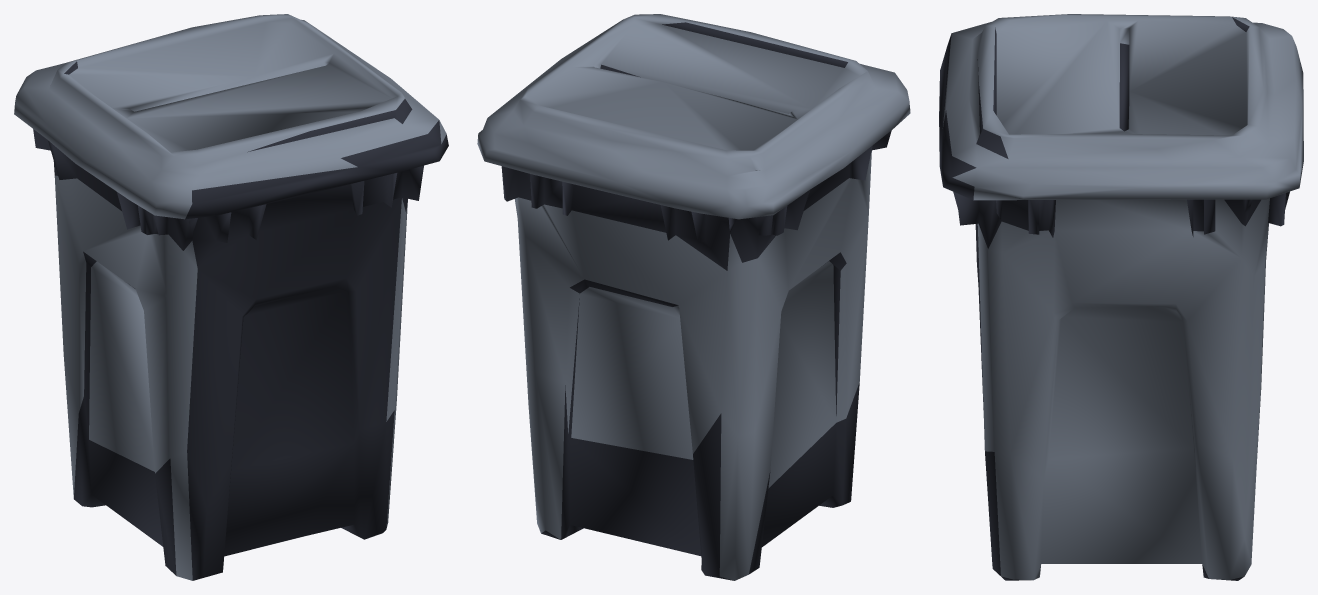
The model's file is SM_prop_trash_bin.fbx.
3 renders of one model, left to right at view 1: azimuth 30°, elevation 25°; view 2: azimuth 150°, elevation 25°; view 3: azimuth 270°, elevation 25°, orthographic. The views are drawn at different scales.
Parts seen in each view (by area): view 1: SM_prop_trash_bin; view 2: SM_prop_trash_bin; view 3: SM_prop_trash_bin.
Part boxes in pixels (bbox=[...]): SM_prop_trash_bin: bbox=[14, 14, 448, 580]; SM_prop_trash_bin: bbox=[477, 14, 910, 580]; SM_prop_trash_bin: bbox=[939, 14, 1303, 580].
Bounding box in the file's own units: 58.65 × 80 × 57.94.
Materials: 1 (1 with a texture image).
